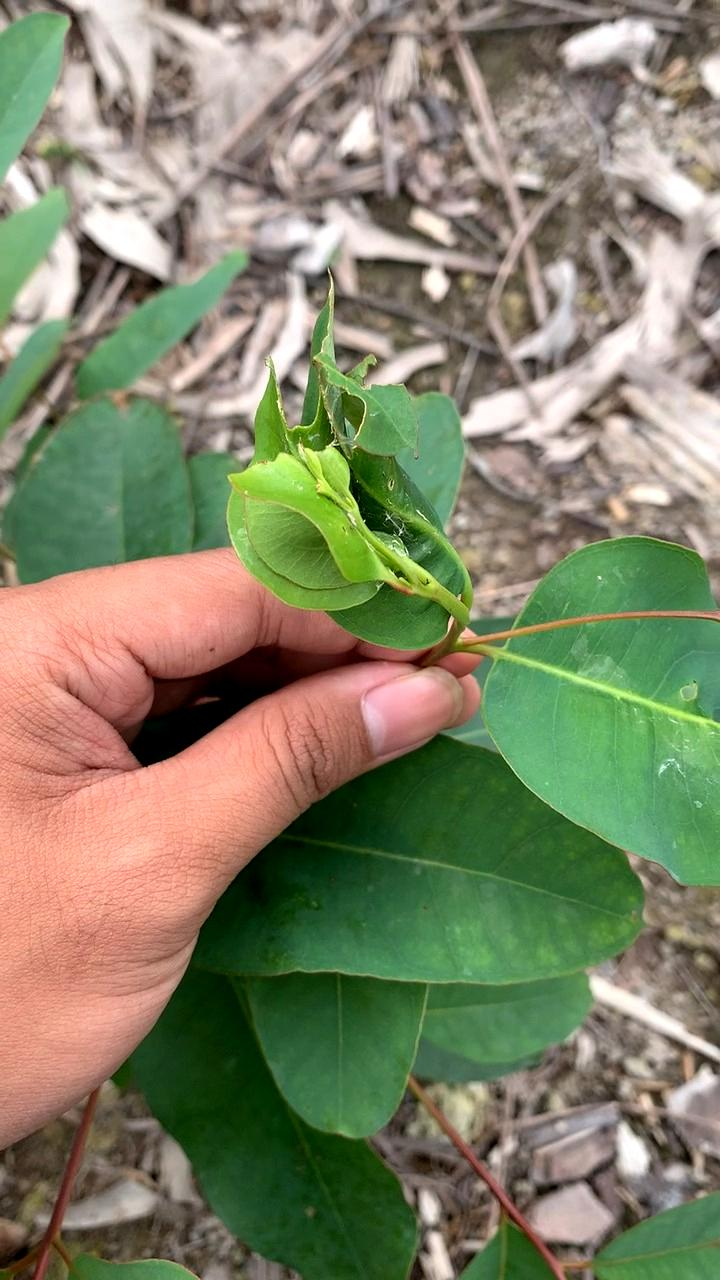Leaf Roller - Leaf: (201, 387, 488, 646)
